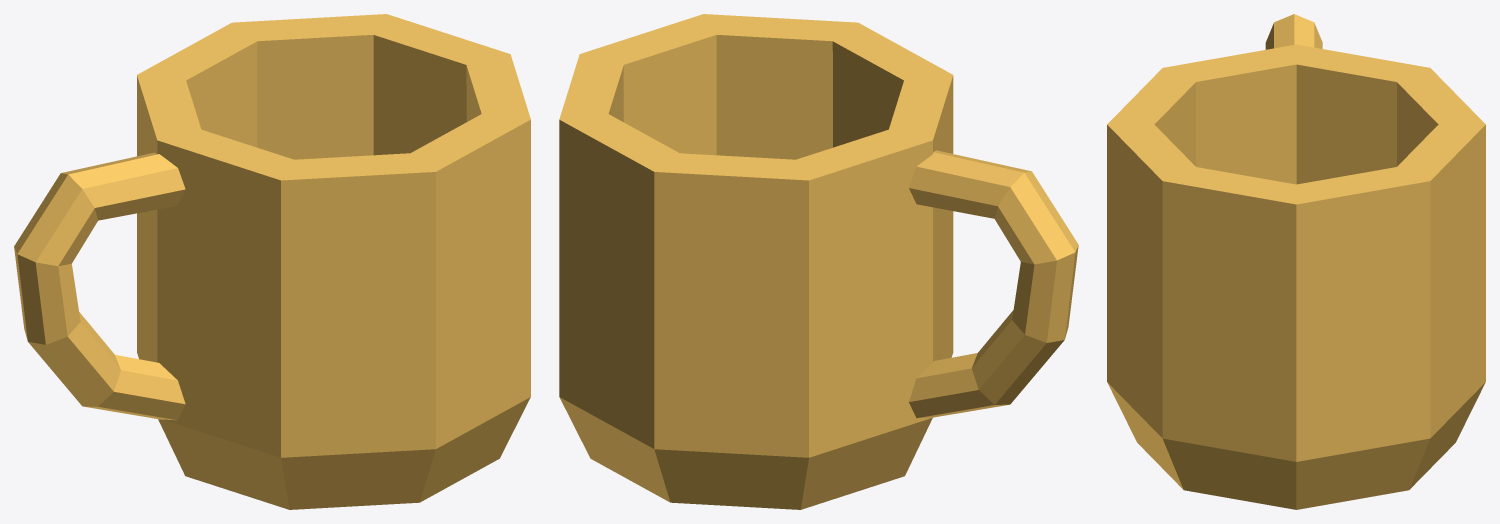
The model's file is Mug.fbx.
3 renders of one model, left to right at view 1: azimuth 30°, elevation 25°; view 2: azimuth 150°, elevation 25°; view 3: azimuth 270°, elevation 25°, orthographic. The views are drawn at different scales.
Visible parts, largest first — view 1: mug, mugHandle; view 2: mug, mugHandle; view 3: mug, mugHandle.
Part boxes in pixels (left/top/right/bottom): mug: left=137, top=14, right=530, bottom=509; mugHandle: left=14, top=152, right=185, bottom=420; mug: left=559, top=14, right=953, bottom=509; mugHandle: left=909, top=150, right=1078, bottom=418; mug: left=1107, top=44, right=1485, bottom=509; mugHandle: left=1265, top=14, right=1322, bottom=49.
Bounding box in the file's own units: 0.112 × 0.08 × 0.08.
